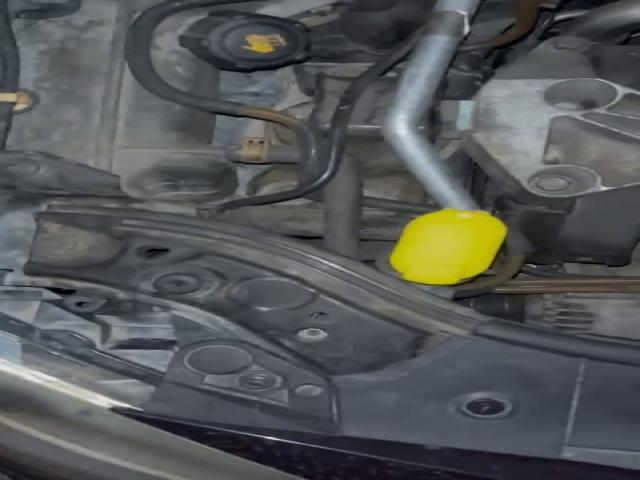antifreeze_tank: (9, 0, 240, 201), (150, 0, 309, 96)
